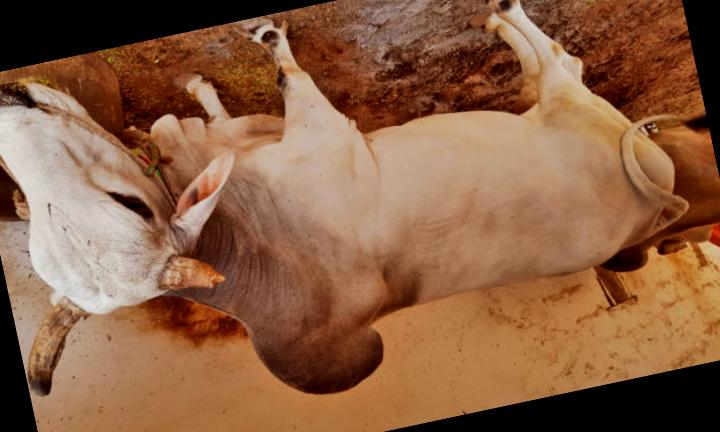Brahman: (0, 0, 688, 396)
